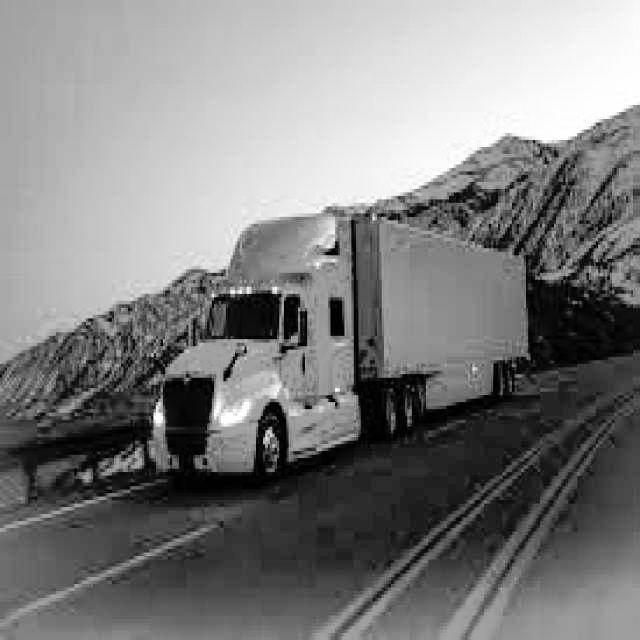Truck: (151, 206, 531, 483)
